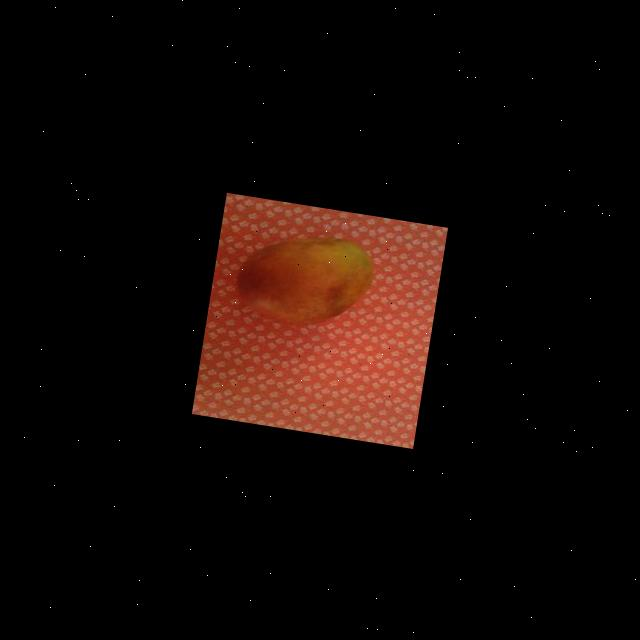Mango: (232, 222, 380, 336)
